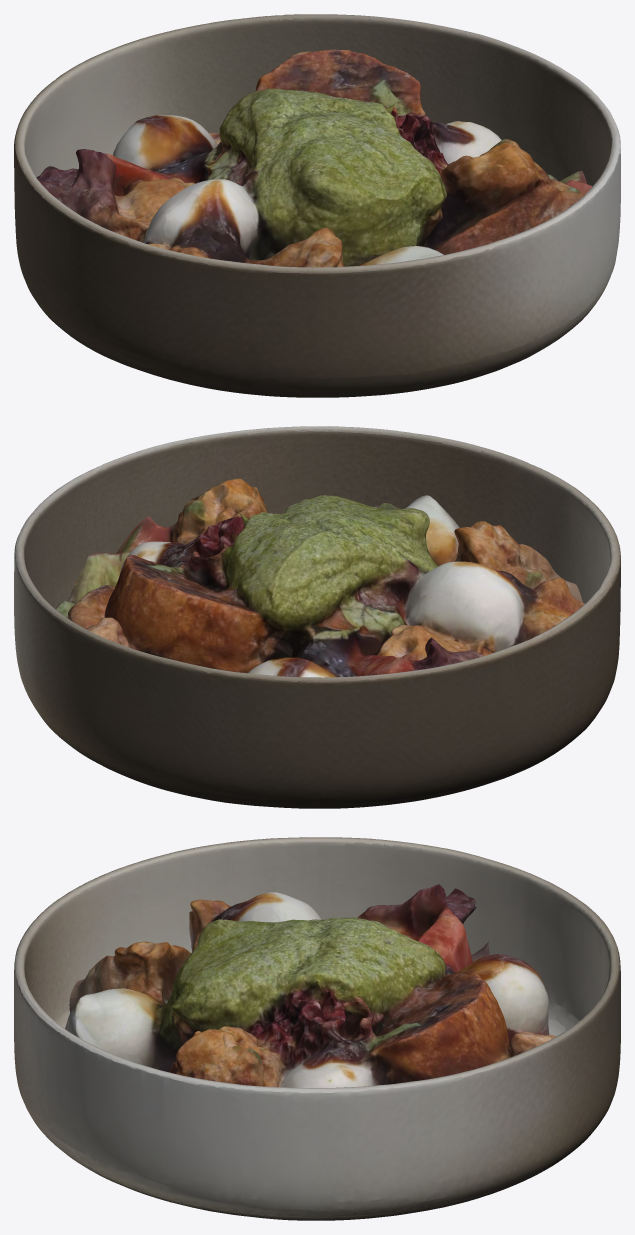
Rendered from set.rustic.001.glb.
3 renders of one model, top to bottom at view 1: azimuth 30°, elevation 25°; view 2: azimuth 150°, elevation 25°; view 3: azimuth 270°, elevation 25°, orthographic.
Visible parts, largest first — view 1: /Root/Scenes/Scene/Object_679/Object_681/Object_682/Submesh_, /Root/Scenes/Scene/Object_679/Object_680/Submesh_0; view 2: /Root/Scenes/Scene/Object_679/Object_681/Object_682/Submesh_, /Root/Scenes/Scene/Object_679/Object_680/Submesh_0; view 3: /Root/Scenes/Scene/Object_679/Object_681/Object_682/Submesh_, /Root/Scenes/Scene/Object_679/Object_680/Submesh_0.
Boxes of the visible parts, <box> form: /Root/Scenes/Scene/Object_679/Object_681/Object_682/Submesh_: <box>14,14,620,397</box>; /Root/Scenes/Scene/Object_679/Object_680/Submesh_0: <box>36,49,592,267</box>; /Root/Scenes/Scene/Object_679/Object_681/Object_682/Submesh_: <box>14,426,620,808</box>; /Root/Scenes/Scene/Object_679/Object_680/Submesh_0: <box>55,478,584,677</box>; /Root/Scenes/Scene/Object_679/Object_681/Object_682/Submesh_: <box>14,837,620,1220</box>; /Root/Scenes/Scene/Object_679/Object_680/Submesh_0: <box>65,884,555,1087</box>.
Bounding box in the file's own units: 0.2045 × 0.0683 × 0.2043.
Materials: 2 (2 with a texture image).
